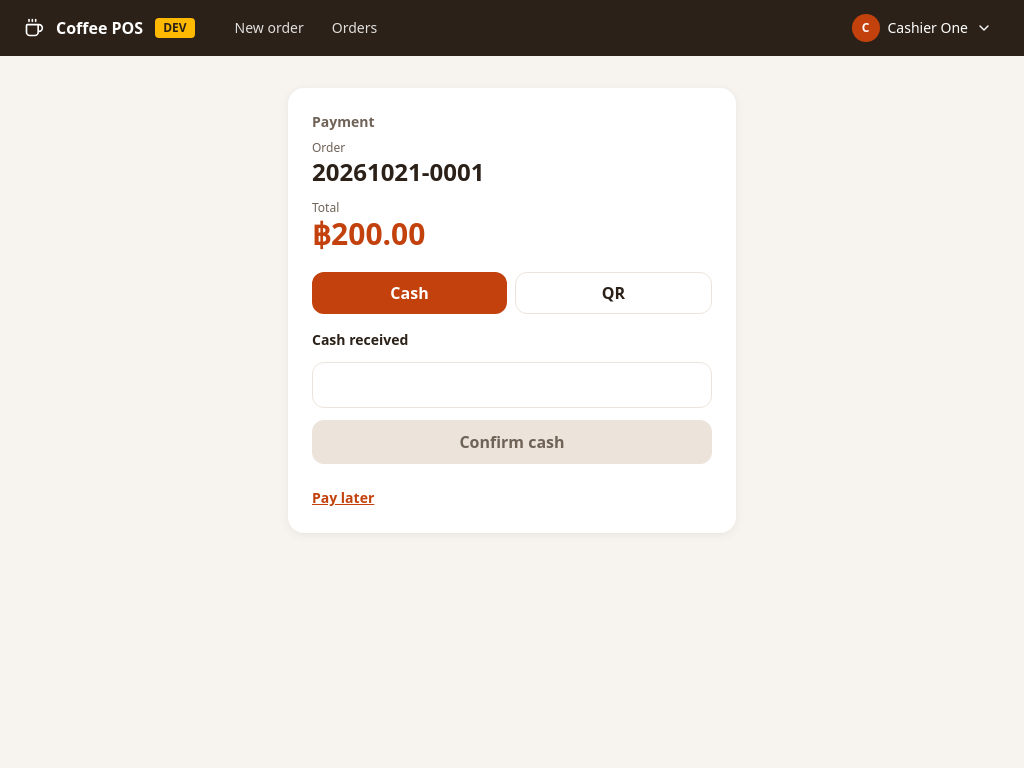
Test: PaymentPage › shows the ORDER_NOT_PAYABLE message on 409
Type "250" into the field labelled "Cash received". click: (512, 385)
box: left=312, top=362, right=712, bottom=408
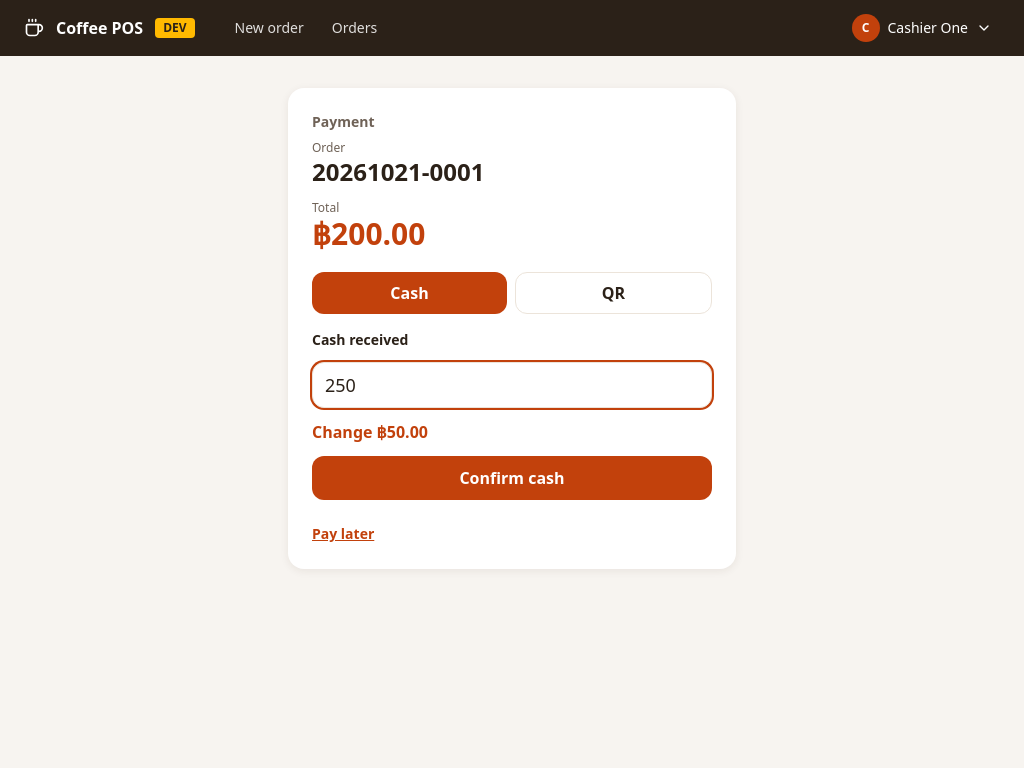
Click the button "Confirm cash". click: (512, 478)
box: left=312, top=456, right=712, bottom=500
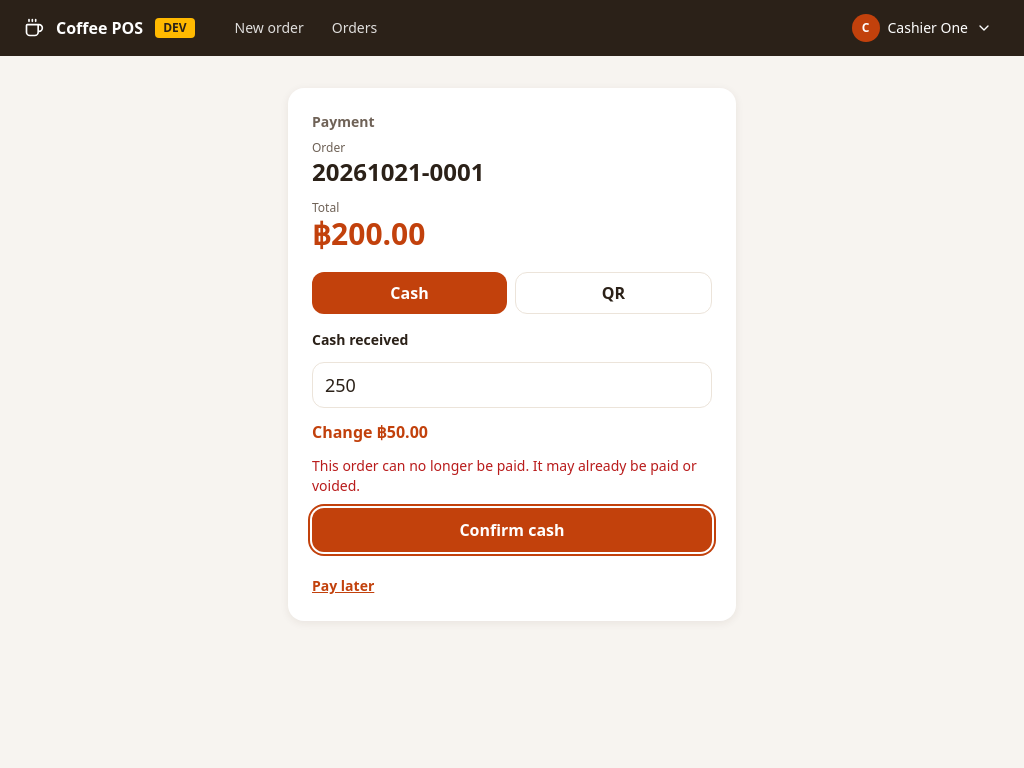
Check: the message shows "This order can no longer be paid.", box left=312, top=456, right=697, bottom=495
